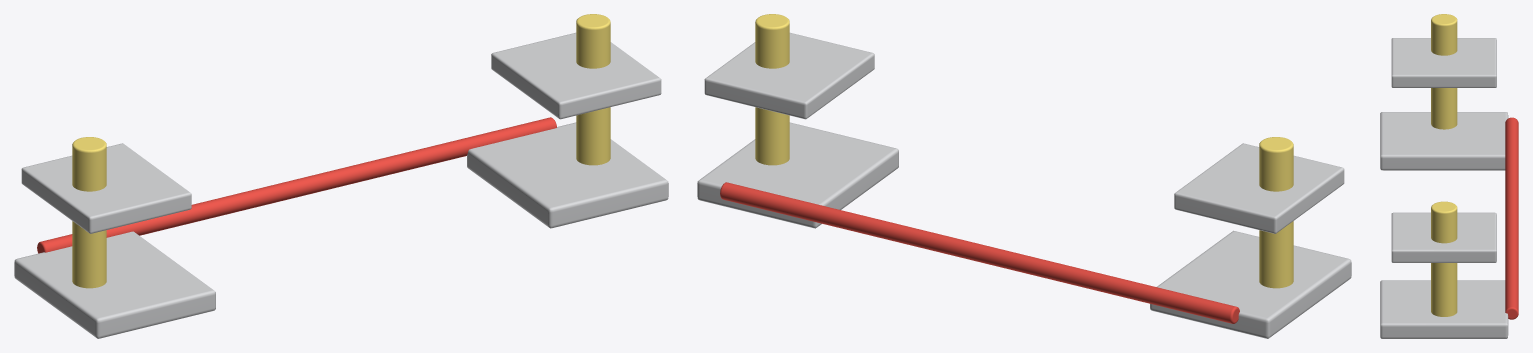
Rendered from suspension_front.glb.
The picture shows the model from 3 angles, left to right: view 1: azimuth 30°, elevation 25°; view 2: azimuth 150°, elevation 25°; view 3: azimuth 270°, elevation 25°; orthographic projection. The views are drawn at different scales.
Parts seen in each view (by area): view 1: SUSP_LOWER_ARM_R, SUSP_LOWER_ARM_L, SUSP_UPPER_ARM_R, SUSP_UPPER_ARM_L, SWAYBAR_FRONT, COILOVER_L, COILOVER_R; view 2: SUSP_LOWER_ARM_L, SUSP_LOWER_ARM_R, SWAYBAR_FRONT, SUSP_UPPER_ARM_R, SUSP_UPPER_ARM_L, COILOVER_L, COILOVER_R; view 3: SUSP_LOWER_ARM_L, SUSP_LOWER_ARM_R, SUSP_UPPER_ARM_L, SUSP_UPPER_ARM_R, SWAYBAR_FRONT, COILOVER_R, COILOVER_L.
Part boxes in pixels (box(x1,y1,x2,y2)): SUSP_LOWER_ARM_R: box(467, 122, 668, 228); SUSP_LOWER_ARM_L: box(14, 231, 215, 338); SUSP_UPPER_ARM_R: box(491, 32, 661, 119); SUSP_UPPER_ARM_L: box(21, 143, 191, 233); SWAYBAR_FRONT: box(37, 117, 556, 253); COILOVER_L: box(72, 137, 106, 288); COILOVER_R: box(576, 14, 610, 165); SUSP_LOWER_ARM_L: box(1150, 230, 1351, 338); SUSP_LOWER_ARM_R: box(697, 122, 898, 228); SWAYBAR_FRONT: box(720, 182, 1239, 323); SUSP_UPPER_ARM_R: box(704, 32, 874, 119); SUSP_UPPER_ARM_L: box(1174, 143, 1344, 233); COILOVER_L: box(1259, 137, 1293, 288); COILOVER_R: box(755, 14, 789, 165); SUSP_LOWER_ARM_L: box(1380, 112, 1508, 170); SUSP_LOWER_ARM_R: box(1380, 280, 1508, 338); SUSP_UPPER_ARM_L: box(1391, 38, 1496, 87); SUSP_UPPER_ARM_R: box(1391, 212, 1496, 262); SWAYBAR_FRONT: box(1505, 117, 1518, 319); COILOVER_R: box(1431, 201, 1457, 316); COILOVER_L: box(1431, 14, 1457, 129).
Bounding box in the file's own units: 1.34 × 0.3525 × 0.368.
